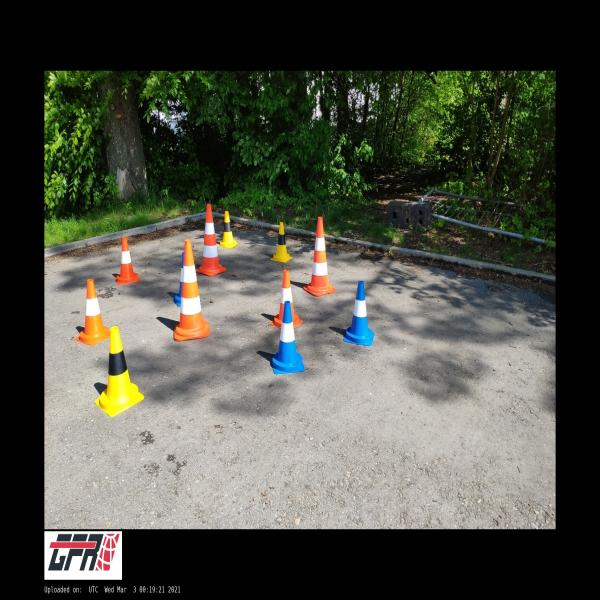blue_cone: (271, 301, 305, 374), (344, 281, 375, 346), (173, 252, 201, 308)
large_orange_cone: (174, 240, 210, 340), (302, 217, 335, 297), (195, 204, 226, 277)
orange_cone: (75, 279, 111, 346), (270, 270, 303, 328), (116, 238, 140, 285)
yellow_cone: (94, 327, 144, 417), (271, 222, 292, 263), (220, 211, 239, 248)
